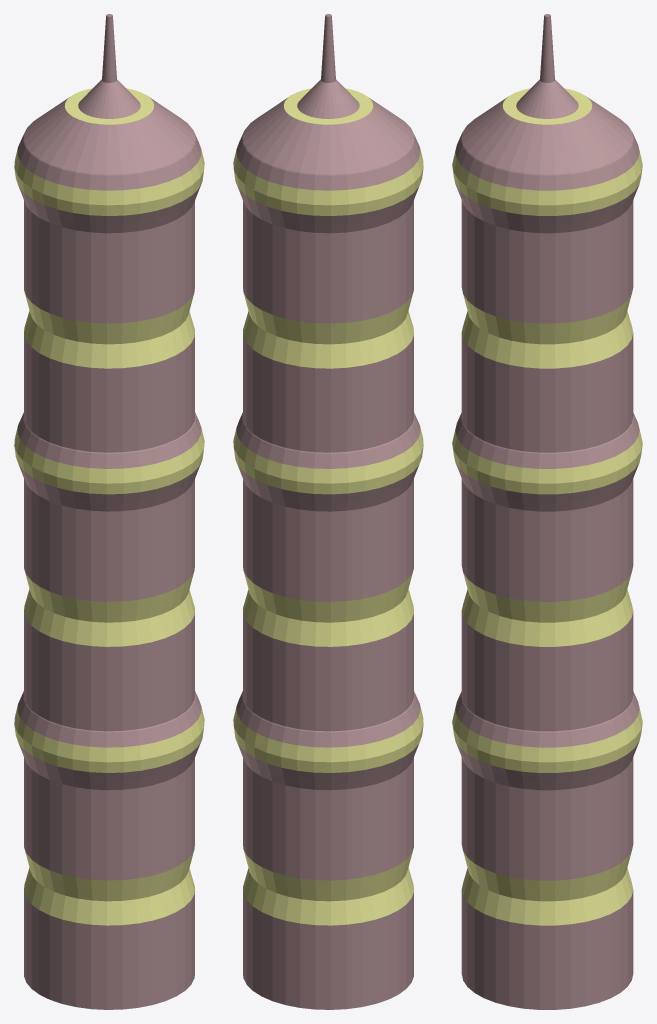
Rendered from Batiment6.fbx.
The picture shows the model from 3 angles, left to right: view 1: azimuth 30°, elevation 25°; view 2: azimuth 150°, elevation 25°; view 3: azimuth 270°, elevation 25°; orthographic projection.
Visible parts, largest first — view 1: Cylinder.006, Cylinder.007; view 2: Cylinder.006, Cylinder.007; view 3: Cylinder.006, Cylinder.007.
Part boxes in pixels (<box>): Cylinder.006: <box>14,412,204,1009</box>; Cylinder.007: <box>14,14,204,452</box>; Cylinder.006: <box>233,412,423,1009</box>; Cylinder.007: <box>233,14,423,452</box>; Cylinder.006: <box>452,413,642,1009</box>; Cylinder.007: <box>452,14,642,452</box>.
Size of the model in its own units: 131 by 732 by 132.
